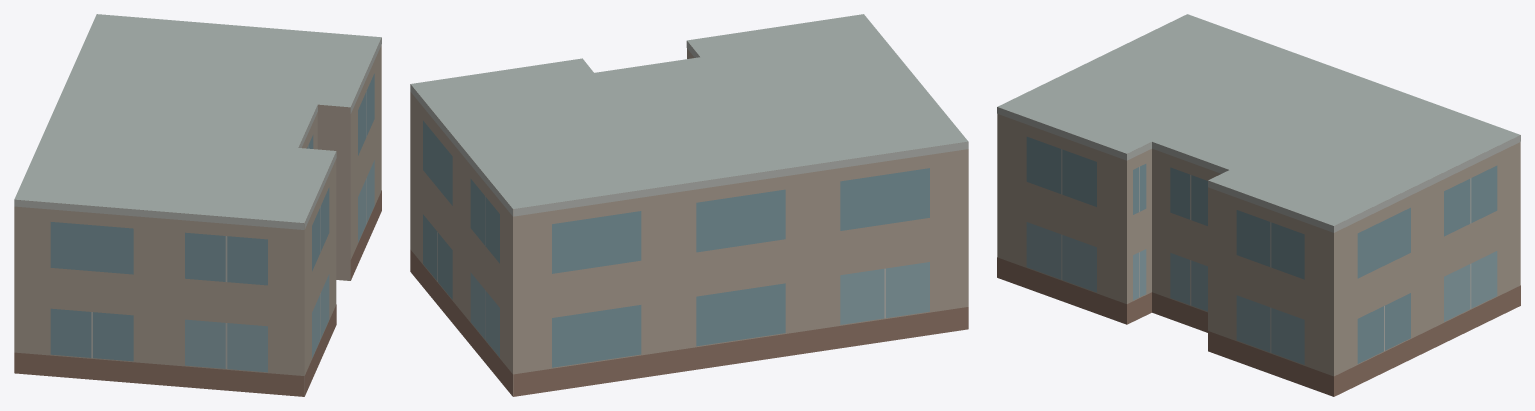
The model's file is survey-upis-32722080.glb.
The picture shows the model from 3 angles, left to right: view 1: azimuth 30°, elevation 25°; view 2: azimuth 150°, elevation 25°; view 3: azimuth 270°, elevation 25°; orthographic projection. The views are drawn at different scales.
Parts seen in each view (by area): view 1: survey-upis-32722080.tmp; view 2: survey-upis-32722080.tmp; view 3: survey-upis-32722080.tmp.
Boxes of the visible parts, <box> form: survey-upis-32722080.tmp: <box>14,14,381,396</box>; survey-upis-32722080.tmp: <box>410,14,968,396</box>; survey-upis-32722080.tmp: <box>997,14,1520,396</box>.
Bounding box in the file's own units: 16.25 × 6.1 × 16.95.
